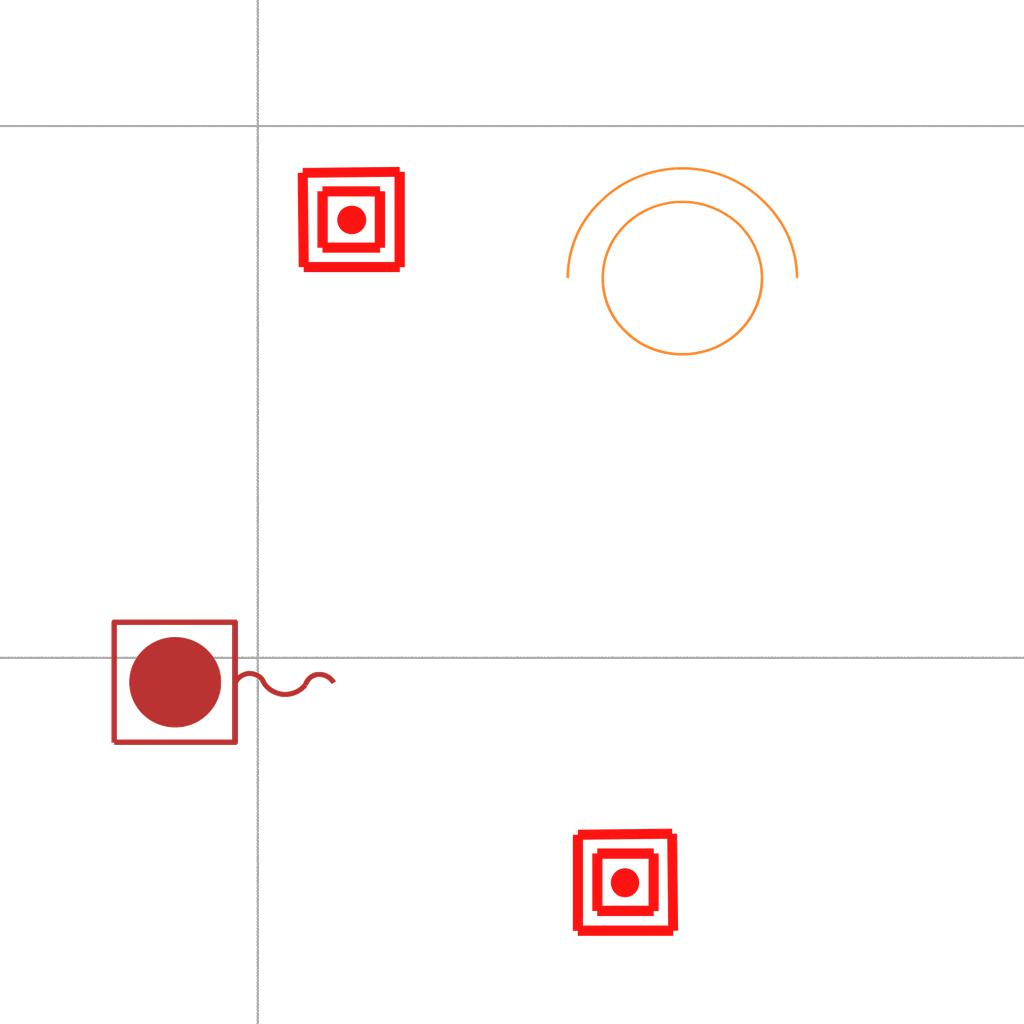NAM-Nichtautomatischer_Melder: (569, 826, 682, 939), (295, 163, 408, 276)
Scheinwerfer_fuer_Alarmbeleuchtung: (544, 156, 808, 381)
Zugtaster: (103, 612, 347, 756)
